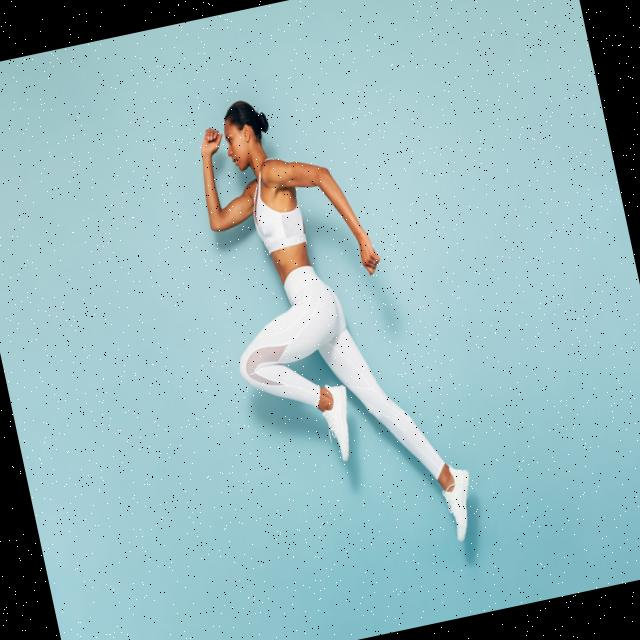Person: (185, 69, 482, 578)
